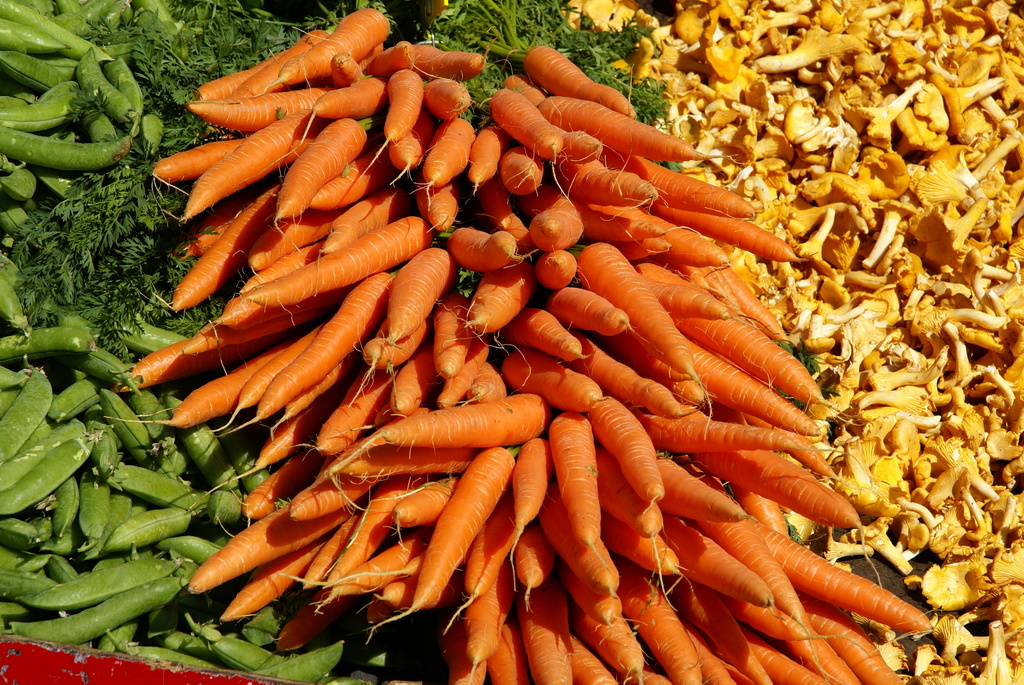Carrot: (104, 7, 935, 685)
